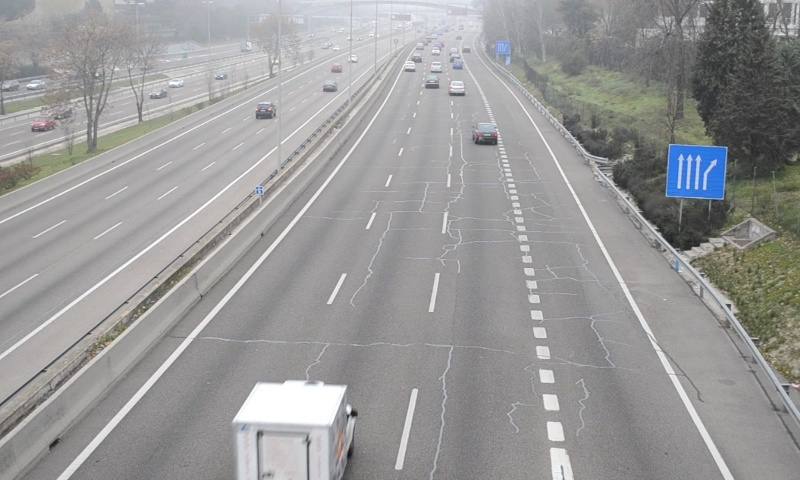car: (472, 121, 498, 145)
small-truck: (232, 382, 358, 480)
